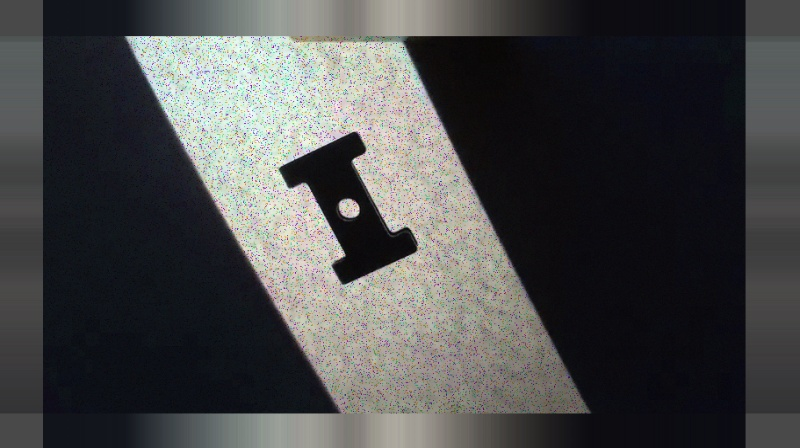O002: (275, 128, 419, 287)
